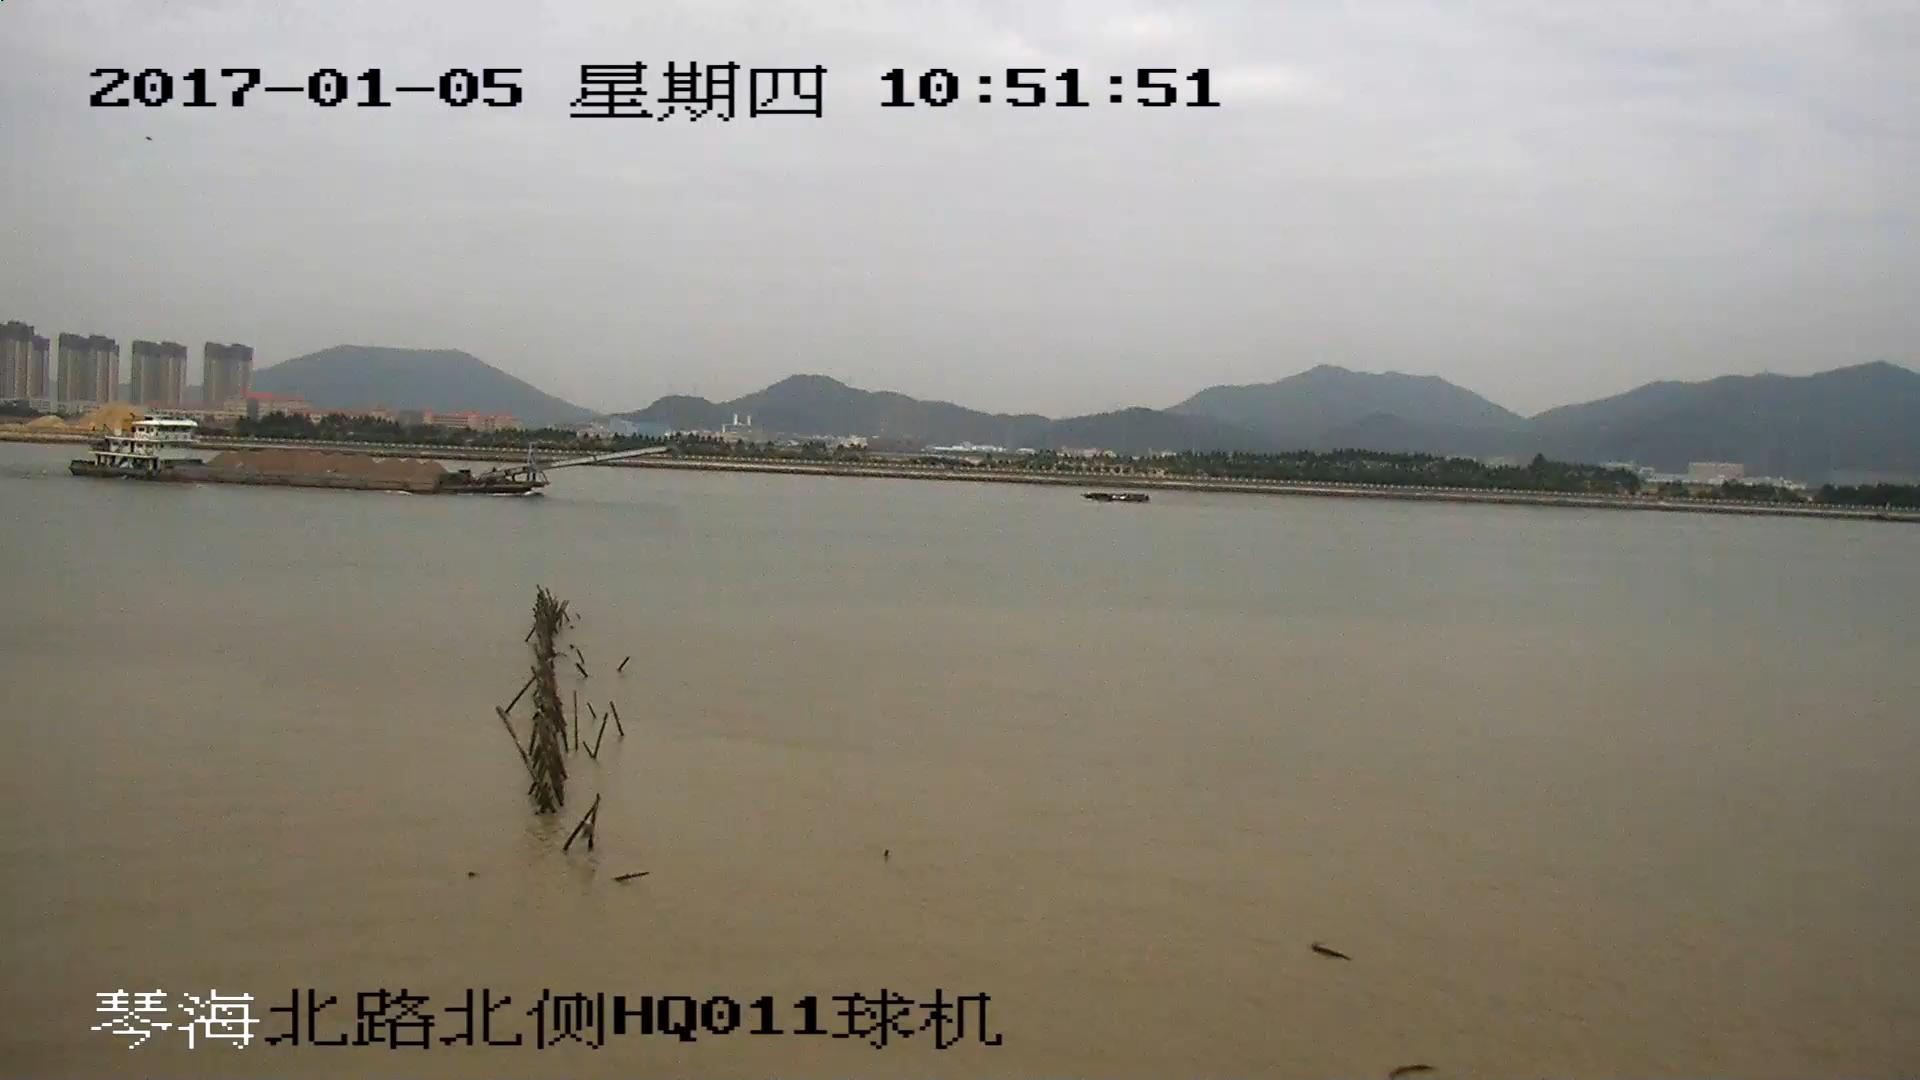ore carrier: (66, 418, 664, 492)
